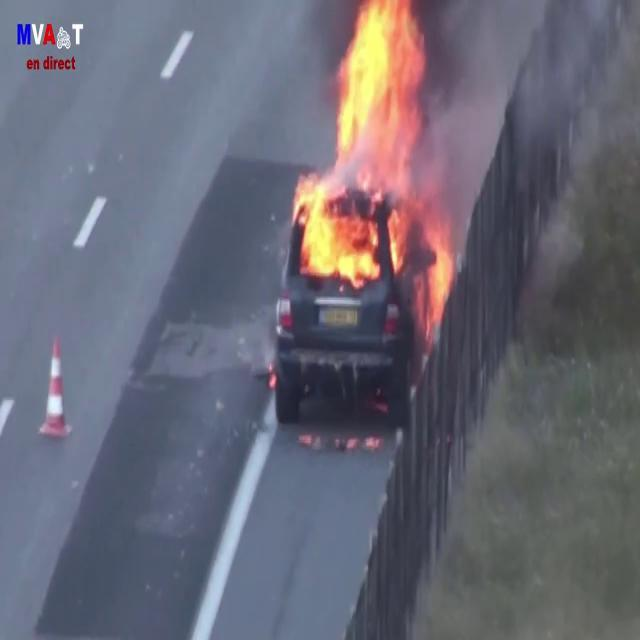Fire: (288, 1, 440, 288), (422, 221, 456, 330)
Smoke: (504, 0, 640, 315)
